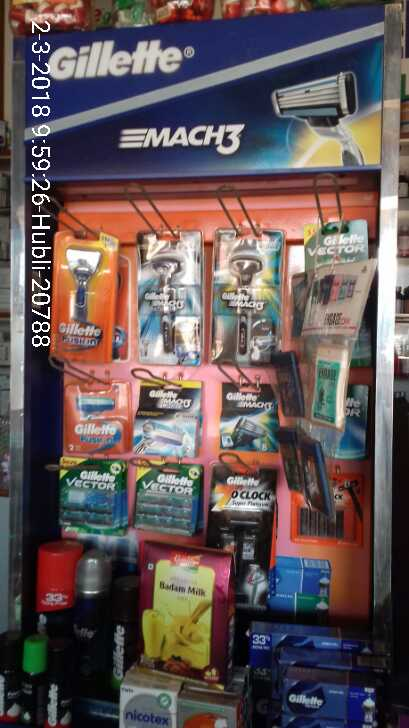gillette: (140, 235, 207, 362), (44, 237, 113, 359), (207, 470, 281, 572), (224, 244, 275, 362), (131, 461, 203, 532), (135, 379, 205, 452), (54, 457, 124, 528), (219, 384, 285, 458), (66, 385, 129, 451), (107, 580, 138, 700)
